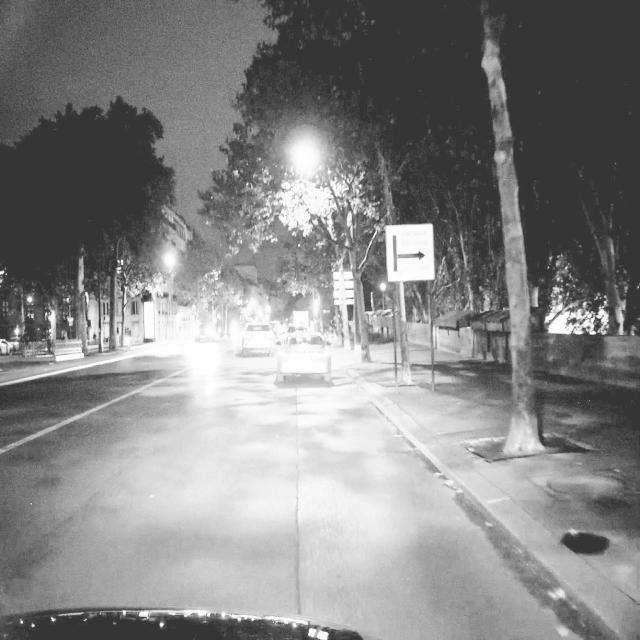Sign: (386, 224, 434, 281)
Tree: (475, 11, 553, 461)
